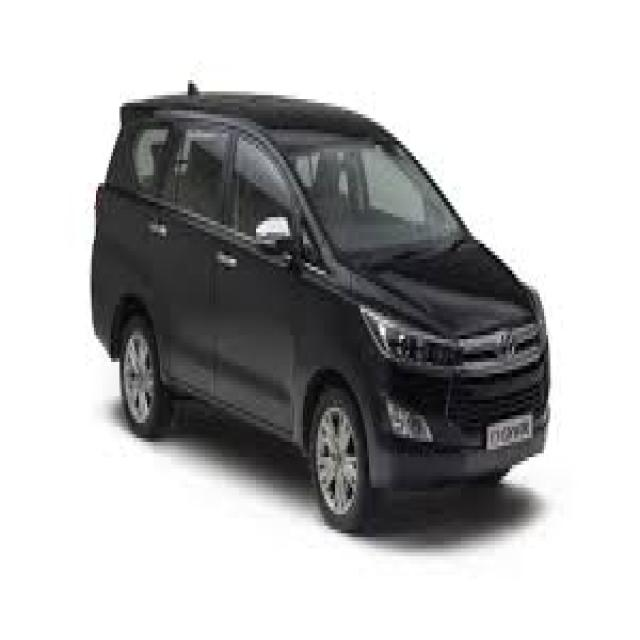light_vehicle: (90, 92, 552, 532)
